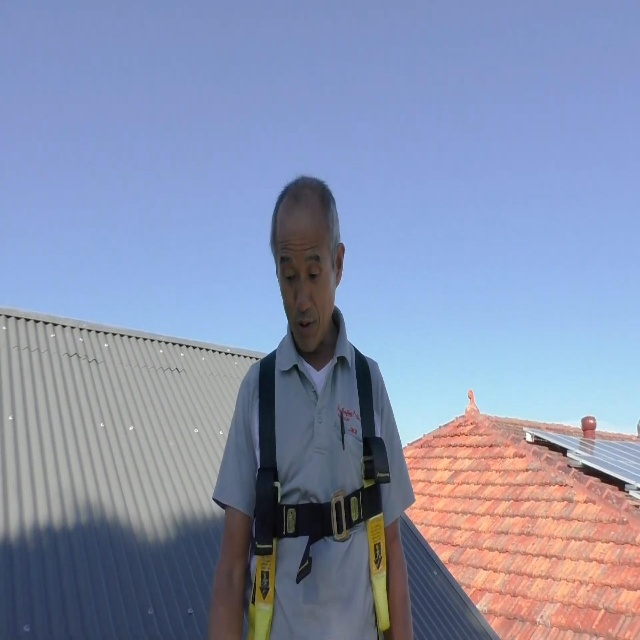Arnes_seguridad: (244, 338, 392, 640)
